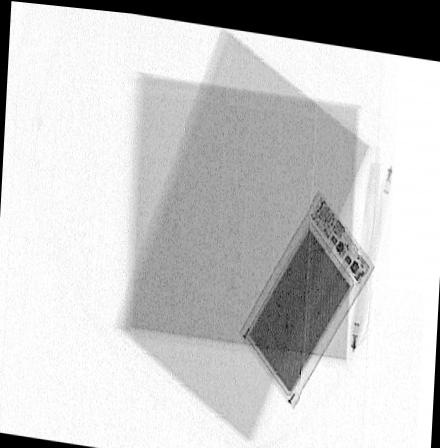Powerbank: (240, 182, 376, 402)
